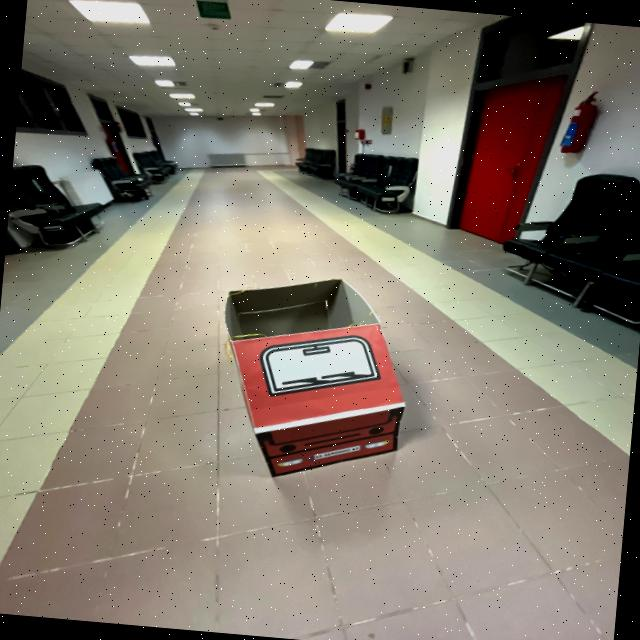red_car: (199, 261, 431, 498)
